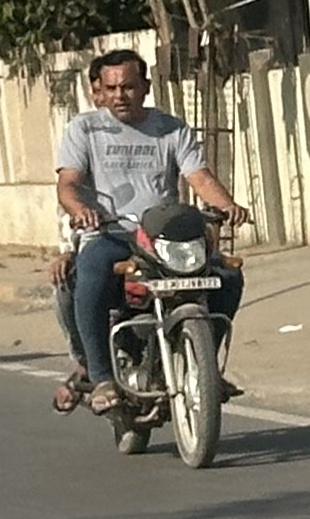BikeWithRider: (39, 41, 261, 473)
NoHelmet: (84, 44, 159, 124)
